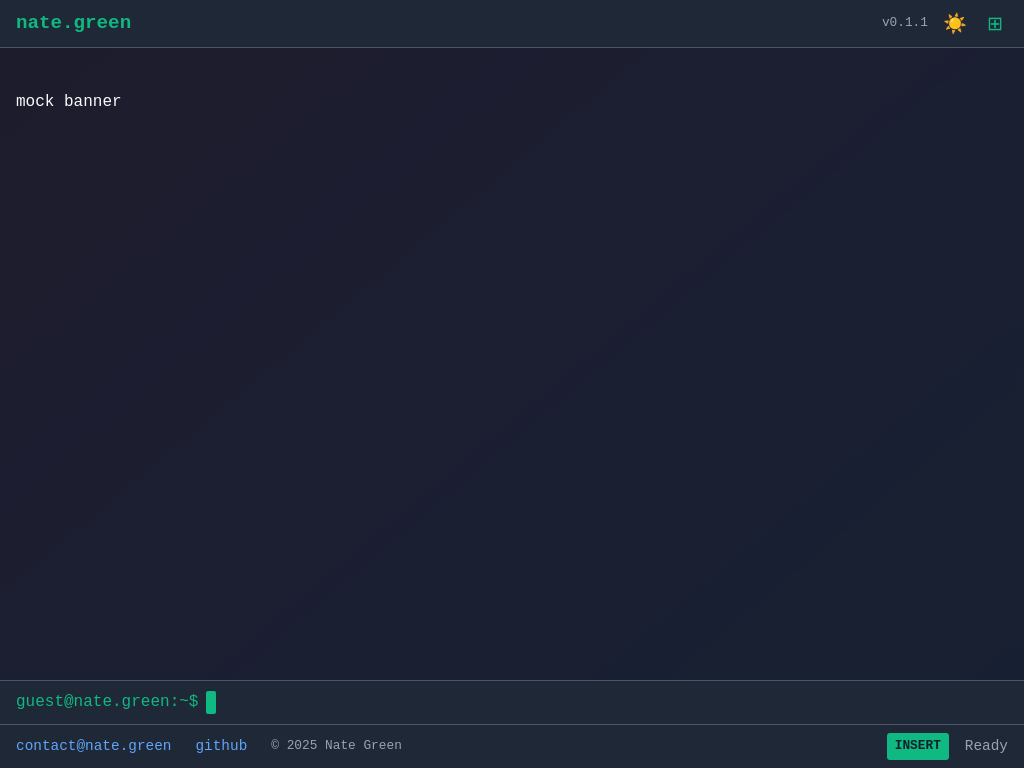
Test: Terminal Component › clears the console when clear command is executed
Note: First add some content
Type "help" into the field at {"x": 607, "y": 702}, box [206,689,1008,716]
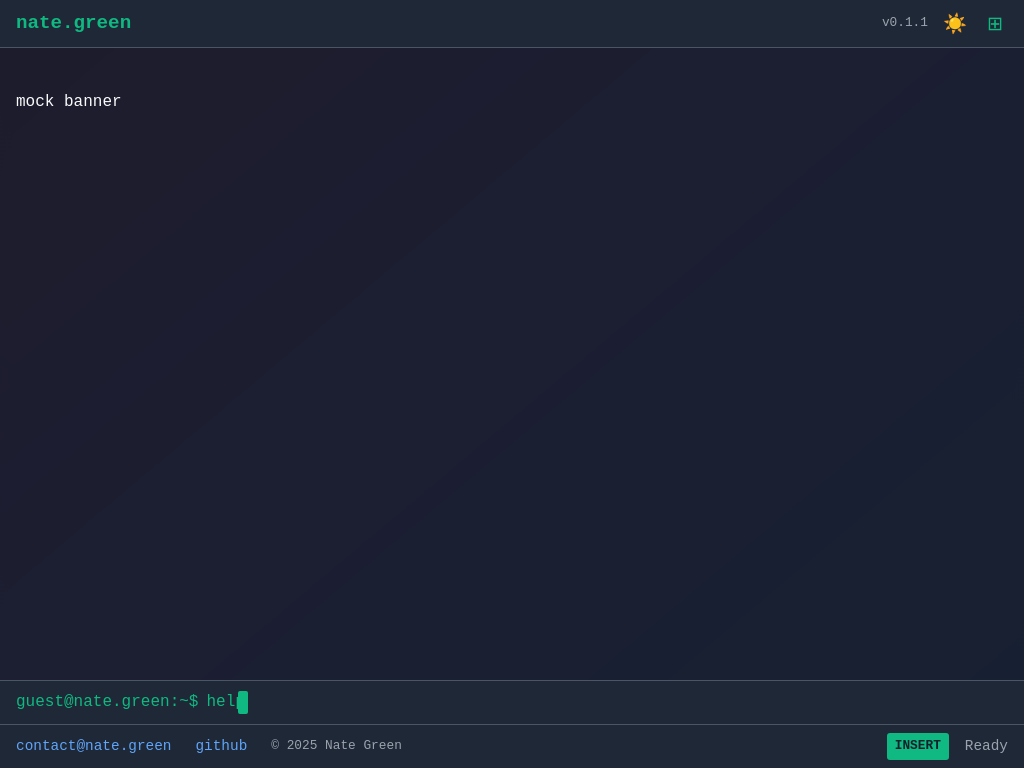
Press Enter in the field, box [206,689,1008,716]
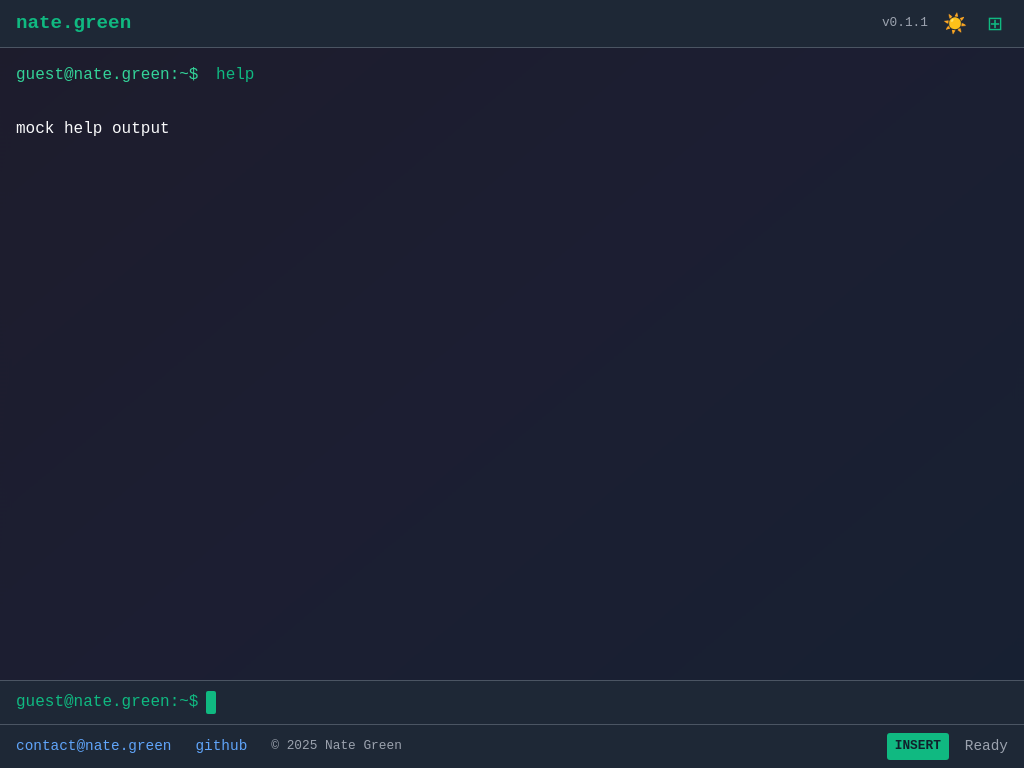
Note: Now clear
Type "clear" into the field at {"x": 607, "y": 702}, box [206,689,1008,716]
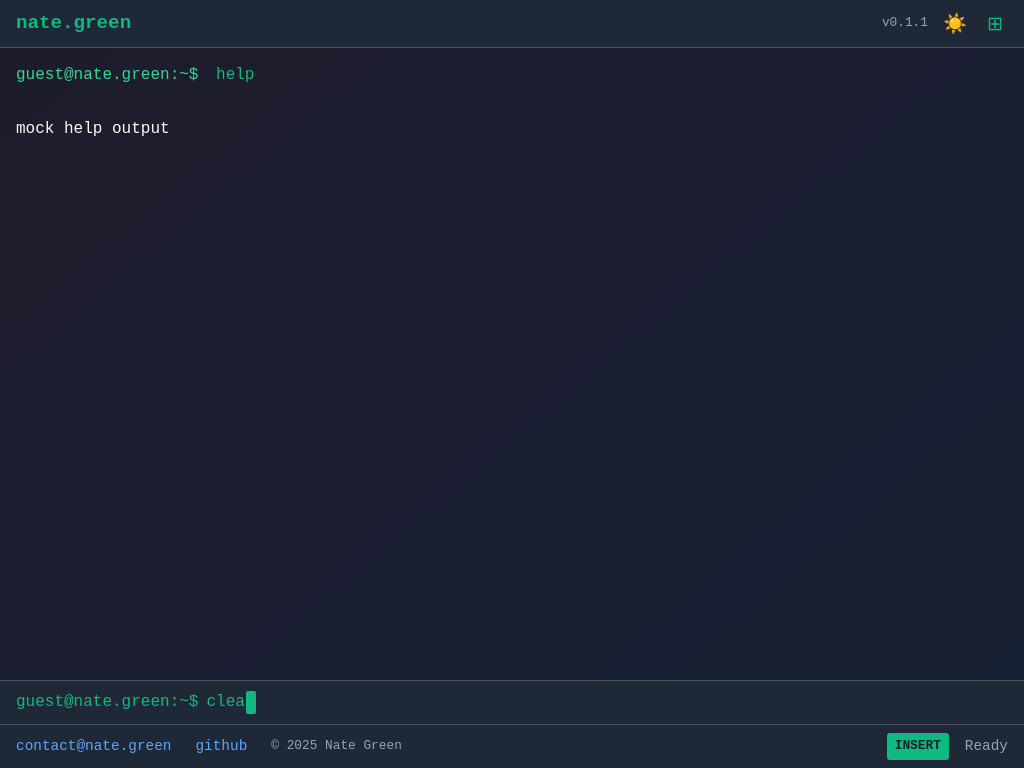
Press Enter in the field, box [206,689,1008,716]
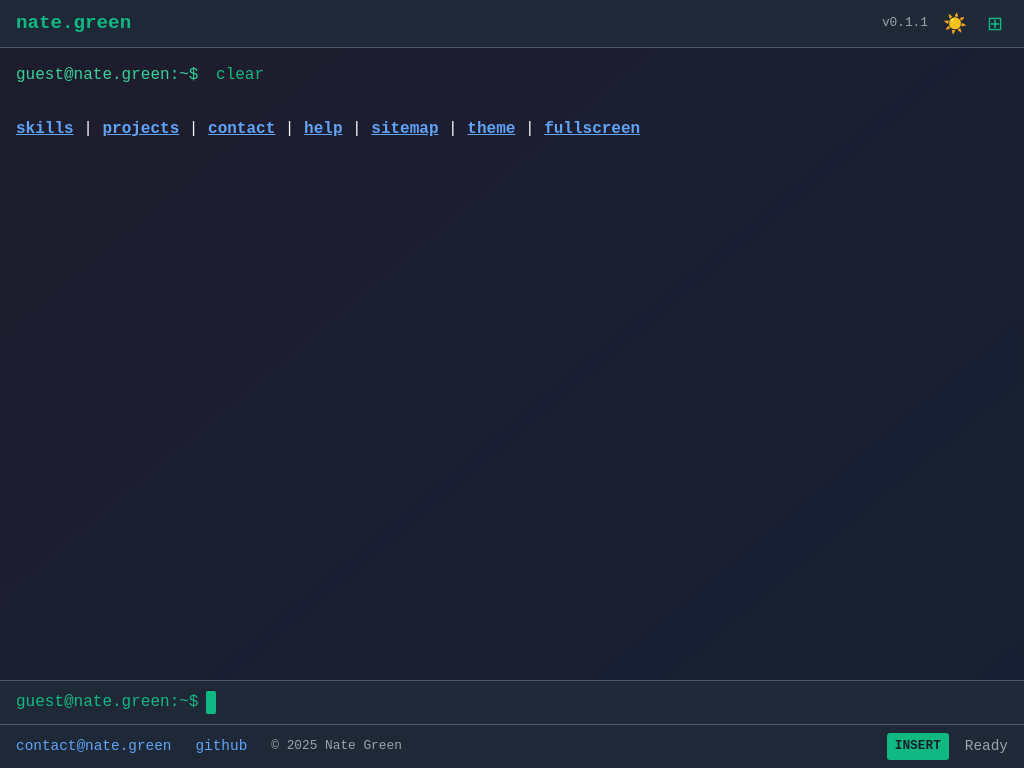
Now the text "mock help output" is gone
